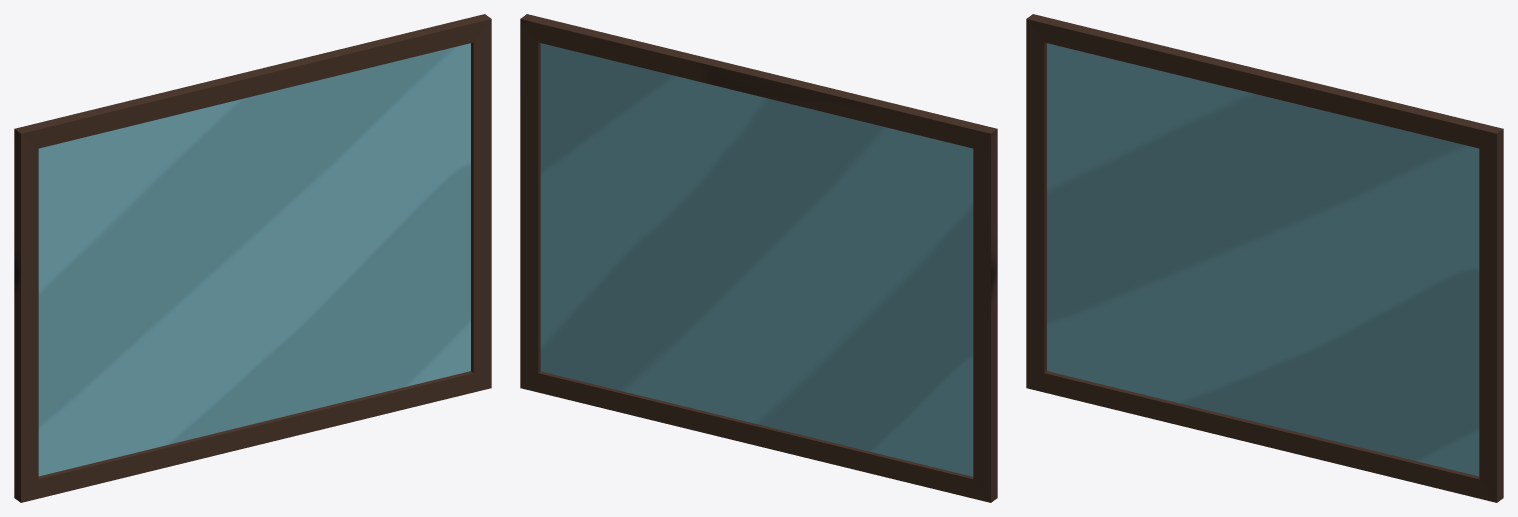
File: window_big.fbx
3 views of the same model, side by side, from view 1: azimuth 30°, elevation 25°; view 2: azimuth 150°, elevation 25°; view 3: azimuth 330°, elevation 25° (orthographic).
Parts seen in each view (by area): view 1: mesh_WindowBig; view 2: mesh_WindowBig; view 3: mesh_WindowBig.
Part boxes in pixels (x1,y1,x2,y2): mesh_WindowBig: [14, 14, 491, 502]; mesh_WindowBig: [520, 14, 997, 502]; mesh_WindowBig: [1026, 14, 1503, 502].
Size of the model in its own units: 4 by 3 by 0.1.
Materials: 1 (1 with a texture image).
